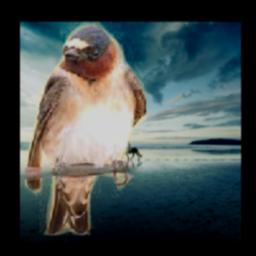Swallow: (25, 22, 146, 235)
